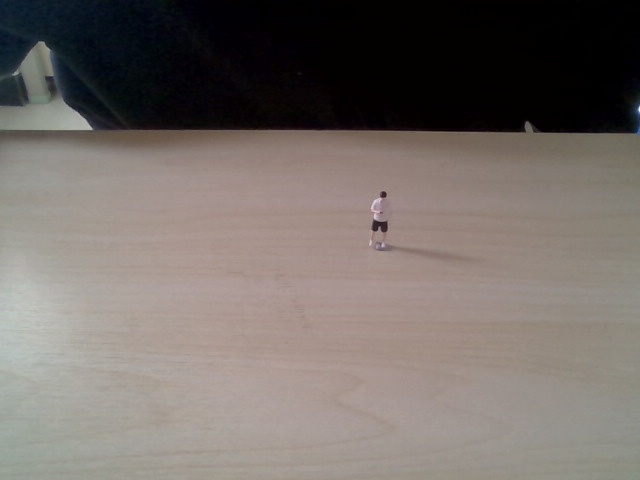walk: (366, 187, 395, 252)
